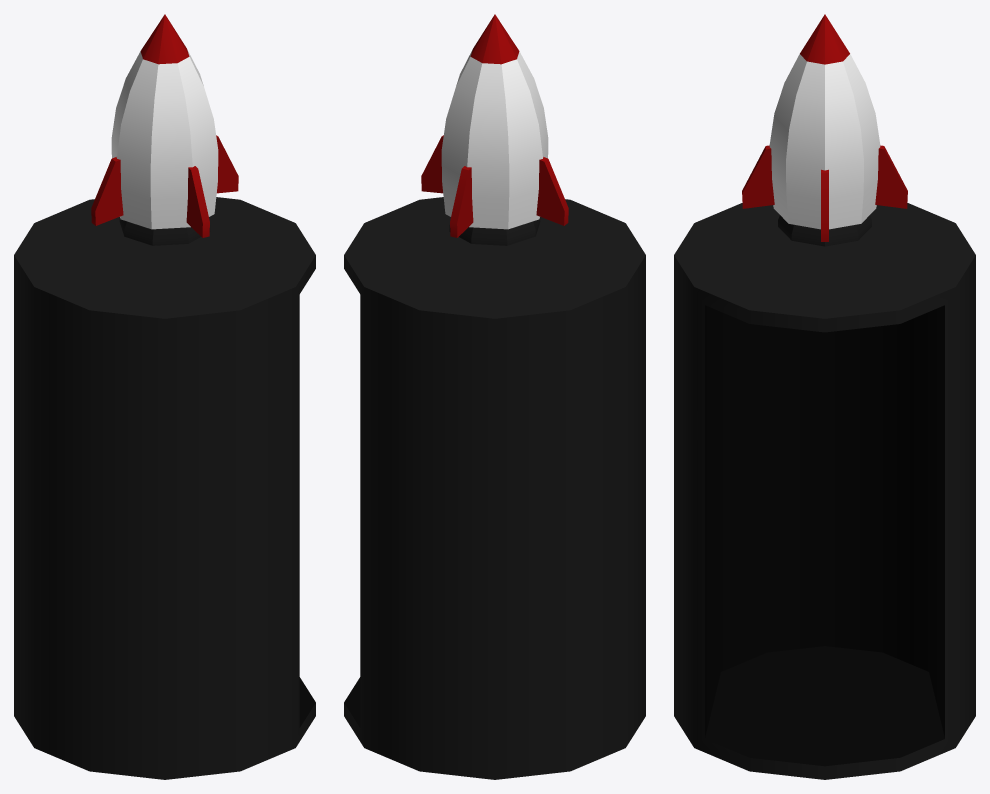
Rendered from RocketBooth.fbx.
The picture shows the model from 3 angles, left to right: view 1: azimuth 30°, elevation 25°; view 2: azimuth 150°, elevation 25°; view 3: azimuth 270°, elevation 25°; orthographic projection.
Parts seen in each view (by area): view 1: Booth, RocketTop; view 2: Booth, RocketTop; view 3: Booth, RocketTop.
Part boxes in pixels (x1,y1,x2,y2): Booth: (14, 197, 315, 779); RocketTop: (91, 14, 238, 245); Booth: (344, 197, 645, 779); RocketTop: (421, 14, 568, 245); Booth: (674, 203, 975, 779); RocketTop: (742, 14, 907, 246).
Bounding box in the file's own units: 148 × 380 × 148.
